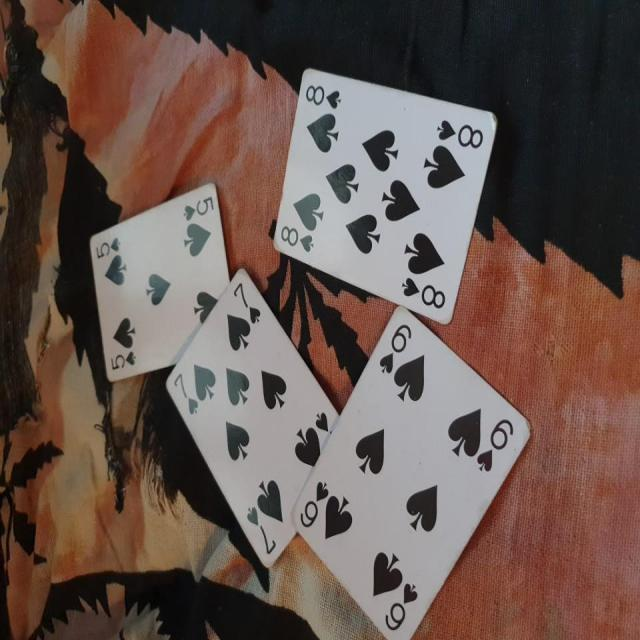5 of spades: (81, 179, 242, 382)
6 of spades: (288, 300, 542, 640)
7 of spades: (156, 266, 345, 578)
8 of spades: (265, 63, 507, 328)
